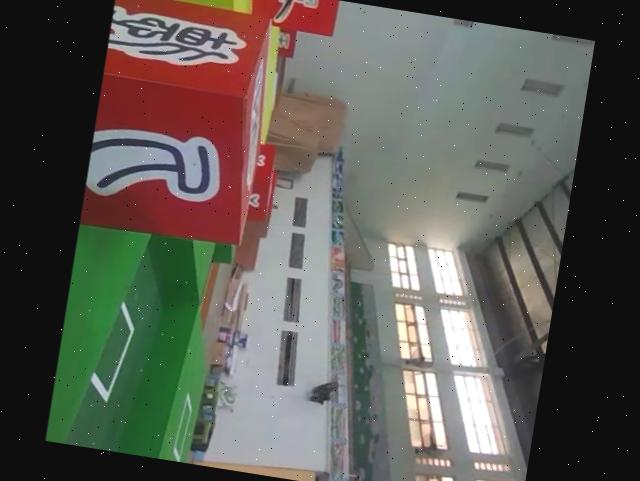R1: (239, 0, 340, 35)
R2 Fake: (78, 0, 283, 253)
